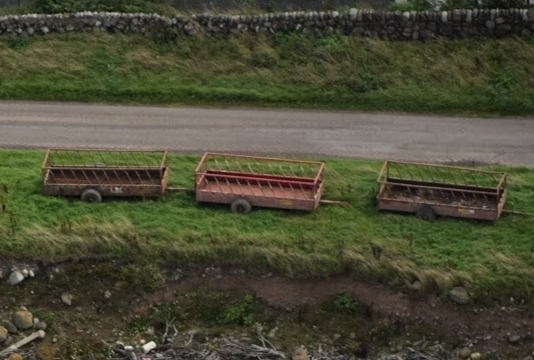cuboid: (187, 145, 333, 223), (366, 150, 513, 227), (25, 136, 174, 202)
white_in_green: (131, 329, 168, 360)
